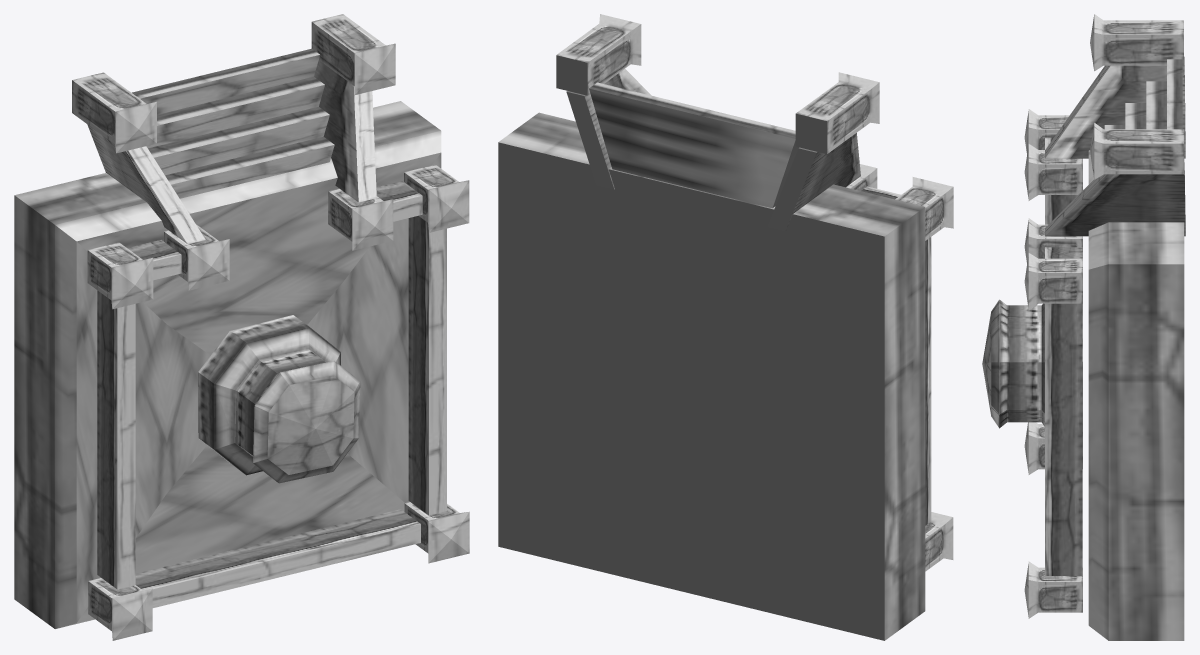
Rendered from virtue.obj.
3 renders of one model, left to right at view 1: azimuth 30°, elevation 25°; view 2: azimuth 150°, elevation 25°; view 3: azimuth 270°, elevation 25°, orthographic. The views are drawn at different scales.
Bounding box in the file's own units: 19.99 × 25.23 × 9.78.
1 material, 1 textured.
